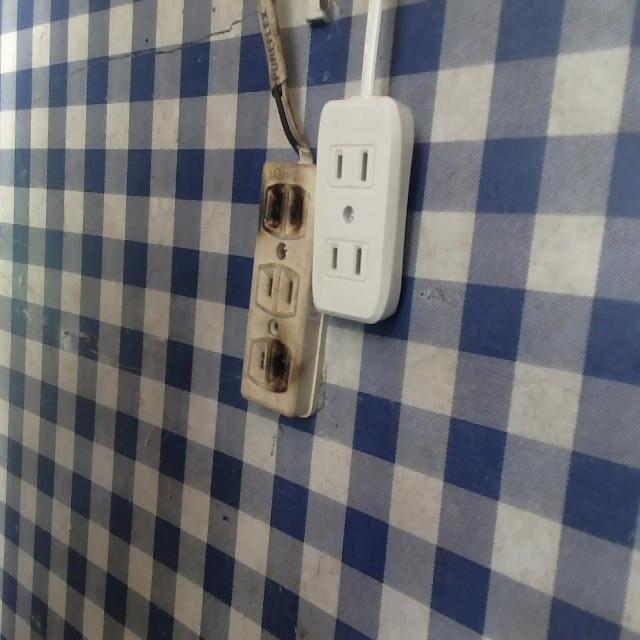-: (261, 176, 310, 243), (264, 334, 293, 402)
